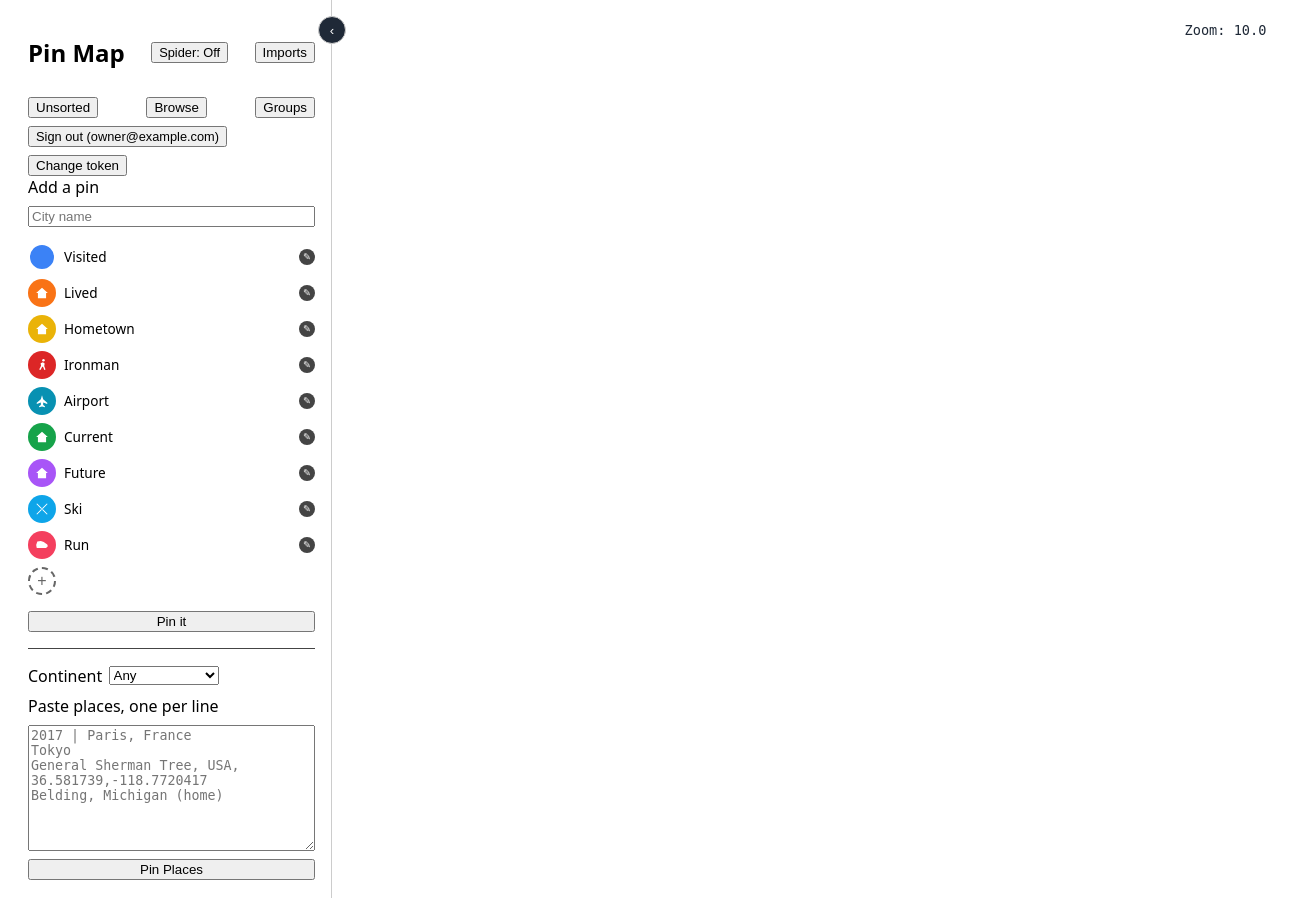
Test case: App › renders the sidebar toggle expanded initially and collapses it on click
What coordinates should you click on to do the following:
click the button named "Hide sidebar"
I would click on:
 (332, 30)
Its box is [318,16,346,44].
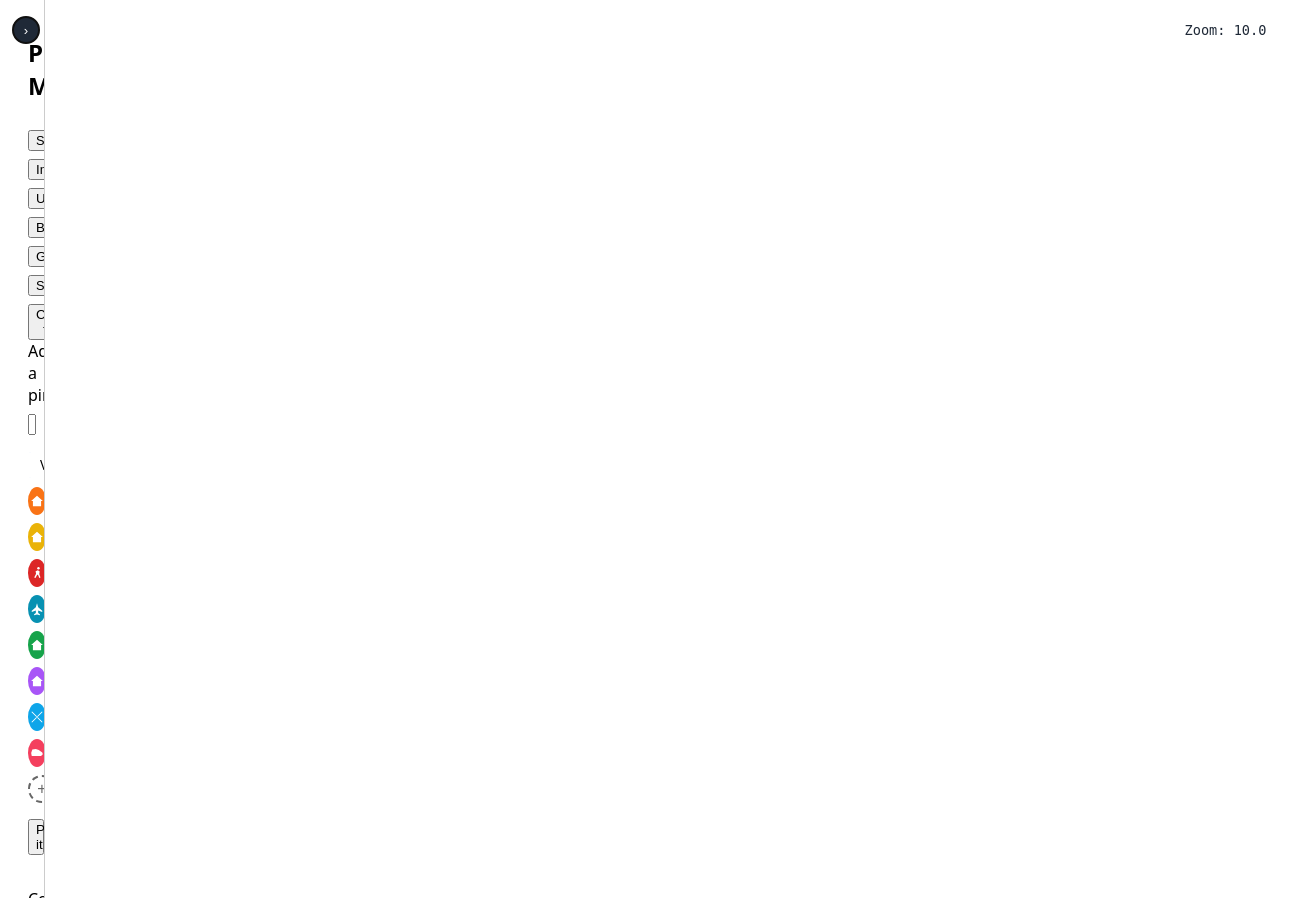
Check: the button named "Show sidebar" is shown, box [12,16,40,44]
